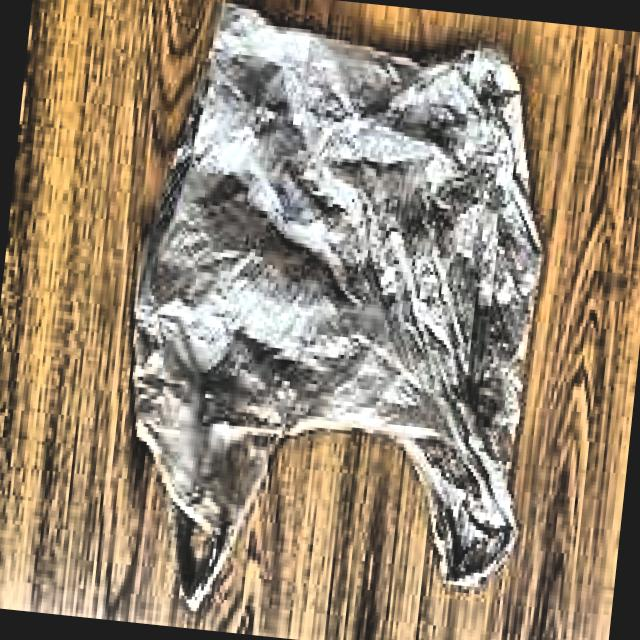plastic bag: (134, 6, 541, 607)
